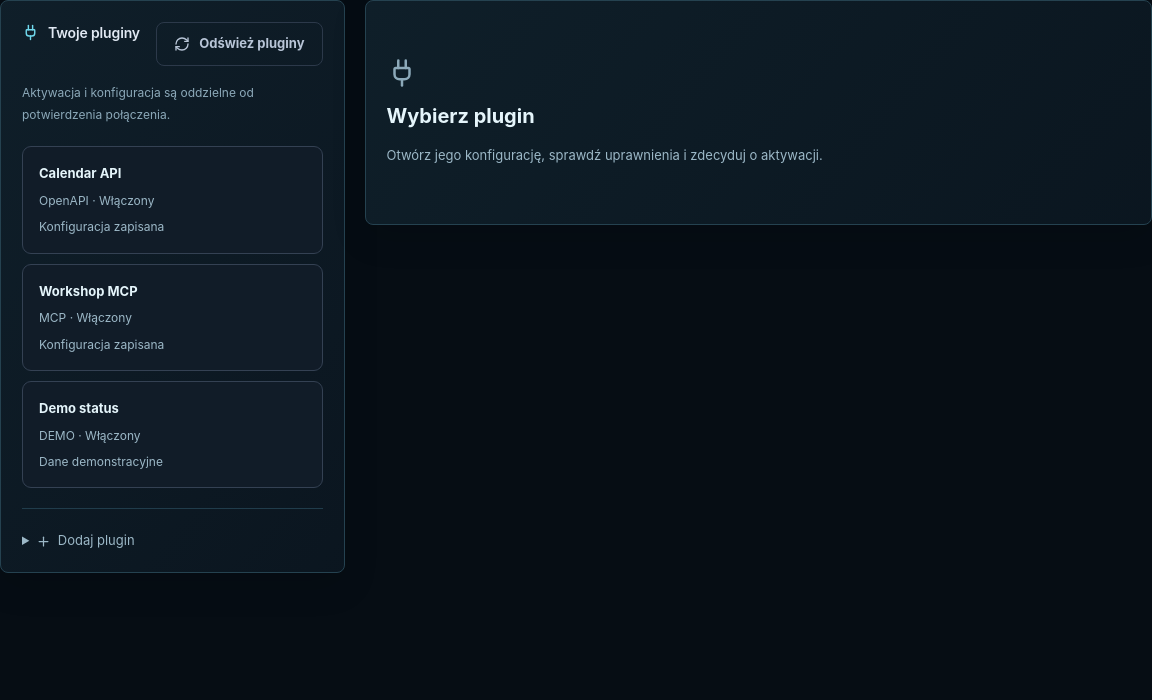
Owner Plugin Manager › never requests network configuration for a demonstration adapter
This screenshot has width=1152, height=700.
Click the button "Demo status": point(79, 408) [22,381,322,488]
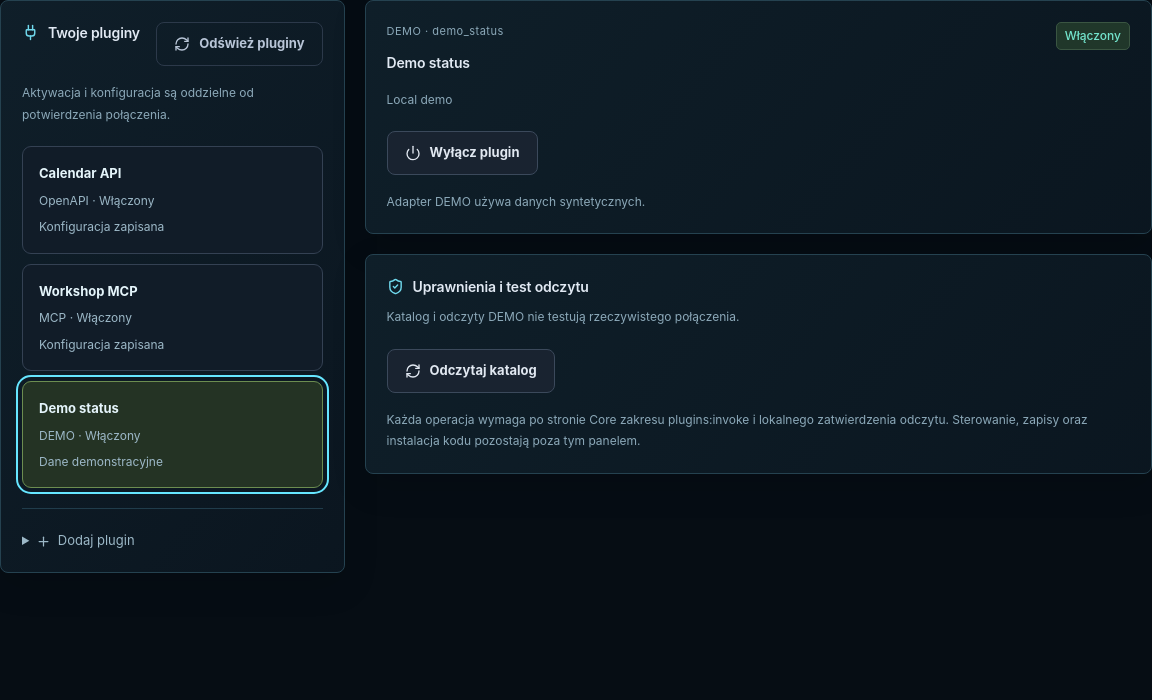
Click the button "Odczytaj katalog": point(471, 371) [386,349,555,393]
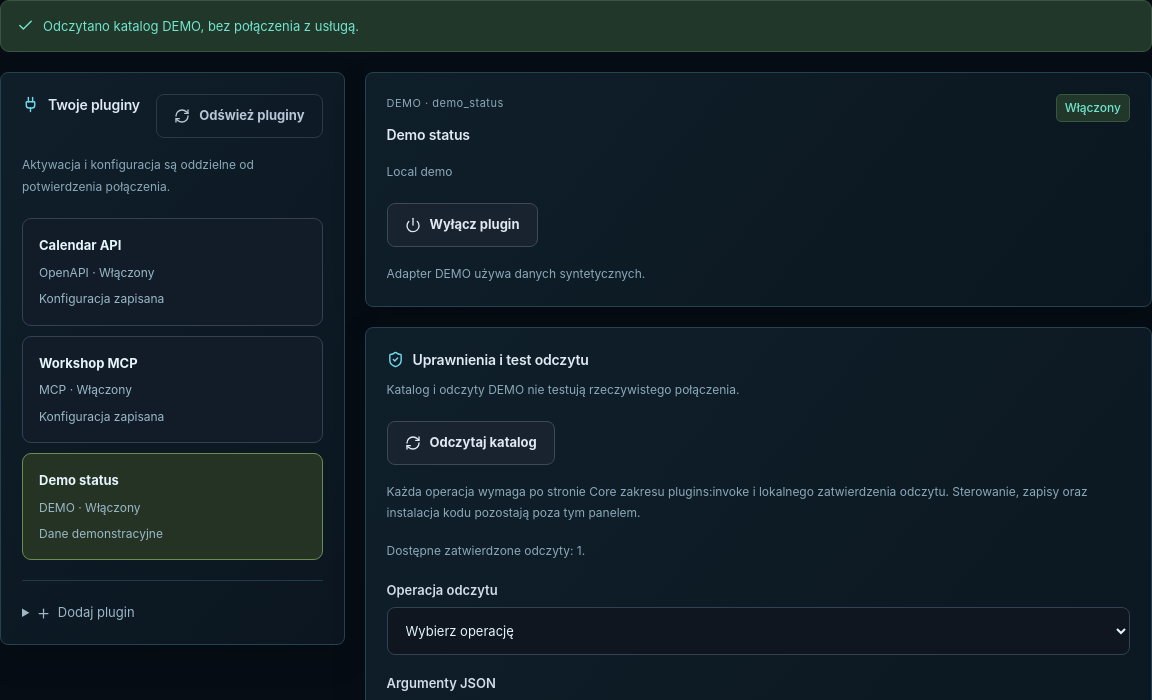
Expected: the dropdown labelled "Operacja odczytu" is shown, [386,606,1130,654]
